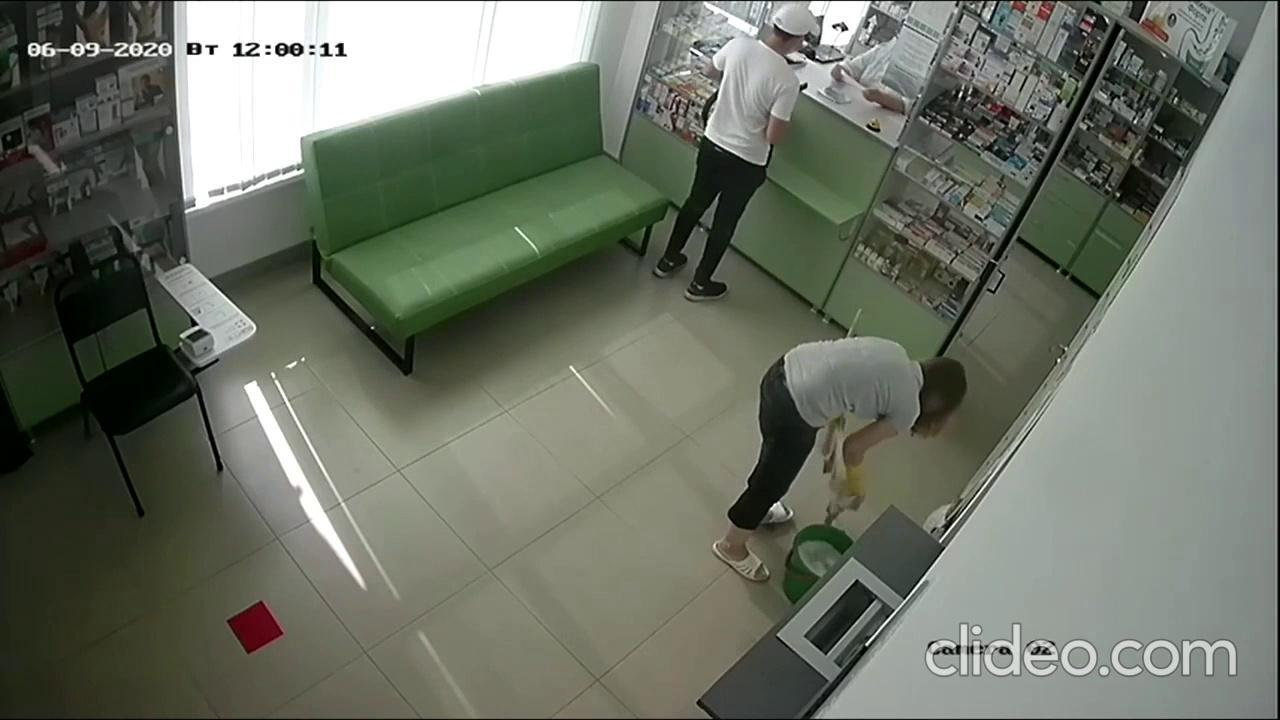person: (707, 330, 973, 587), (649, 0, 822, 304), (828, 26, 936, 117)
pistol: (798, 80, 809, 95)
